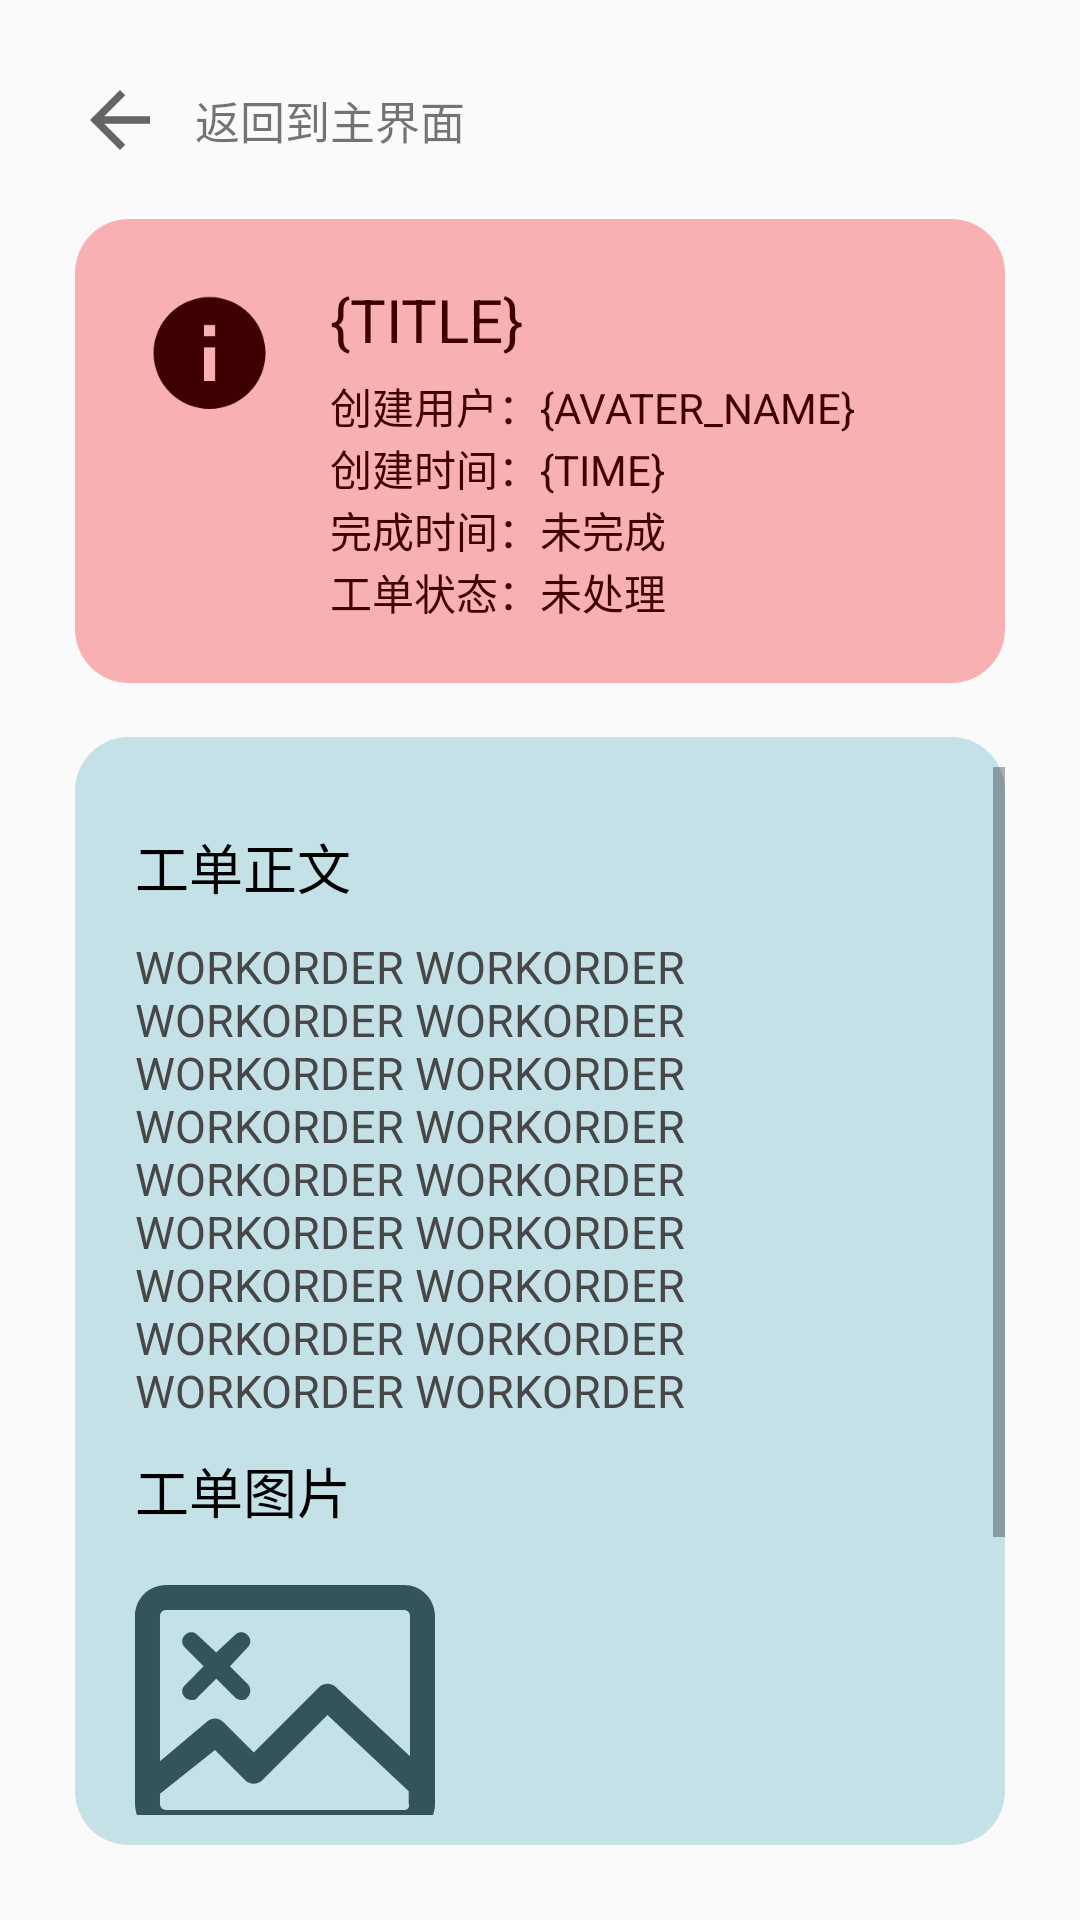

Named icons in this screenshot (1080 x 1920) and their centers, (x=x, y=y):
detail: (x=209, y=352)
no pic: (x=285, y=1700)
